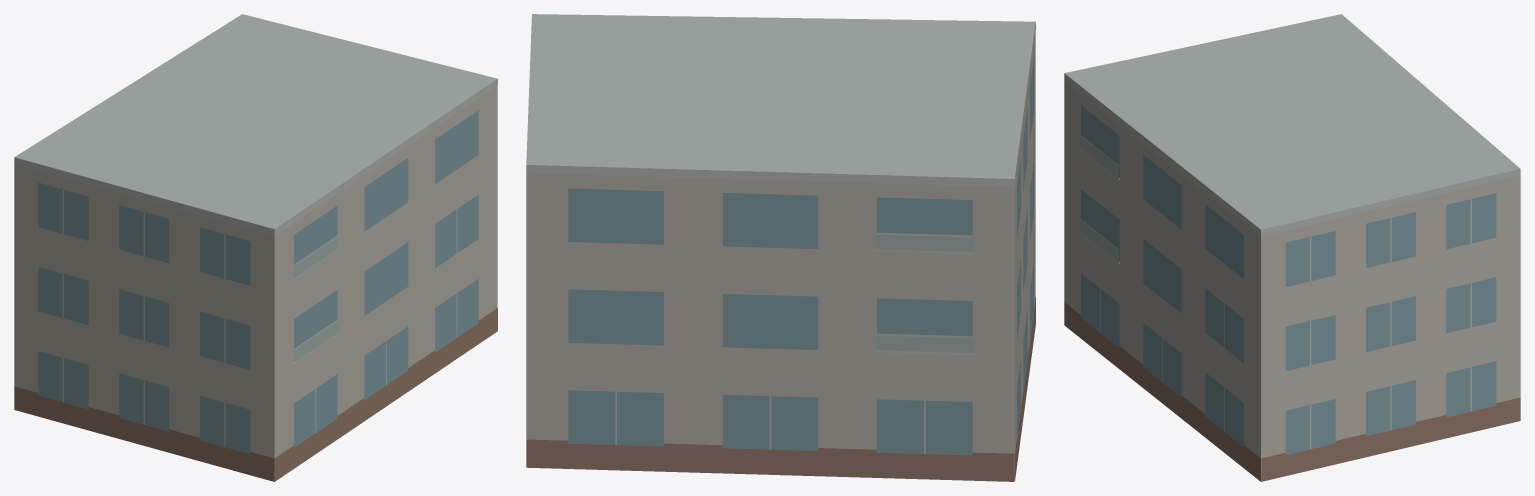
Rendered from survey-upis-32757473.glb.
3 views of the same model, side by side, from view 1: azimuth 30°, elevation 25°; view 2: azimuth 150°, elevation 25°; view 3: azimuth 270°, elevation 25° (orthographic). The views are drawn at different scales.
Parts seen in each view (by area): view 1: survey-upis-32757473.tmp; view 2: survey-upis-32757473.tmp; view 3: survey-upis-32757473.tmp.
Boxes of the visible parts, bbox=[...] form: survey-upis-32757473.tmp: bbox=[14, 14, 497, 481]; survey-upis-32757473.tmp: bbox=[526, 14, 1035, 481]; survey-upis-32757473.tmp: bbox=[1064, 14, 1520, 481].
Bounding box in the file's own units: 16.8 × 9.15 × 15.02.
